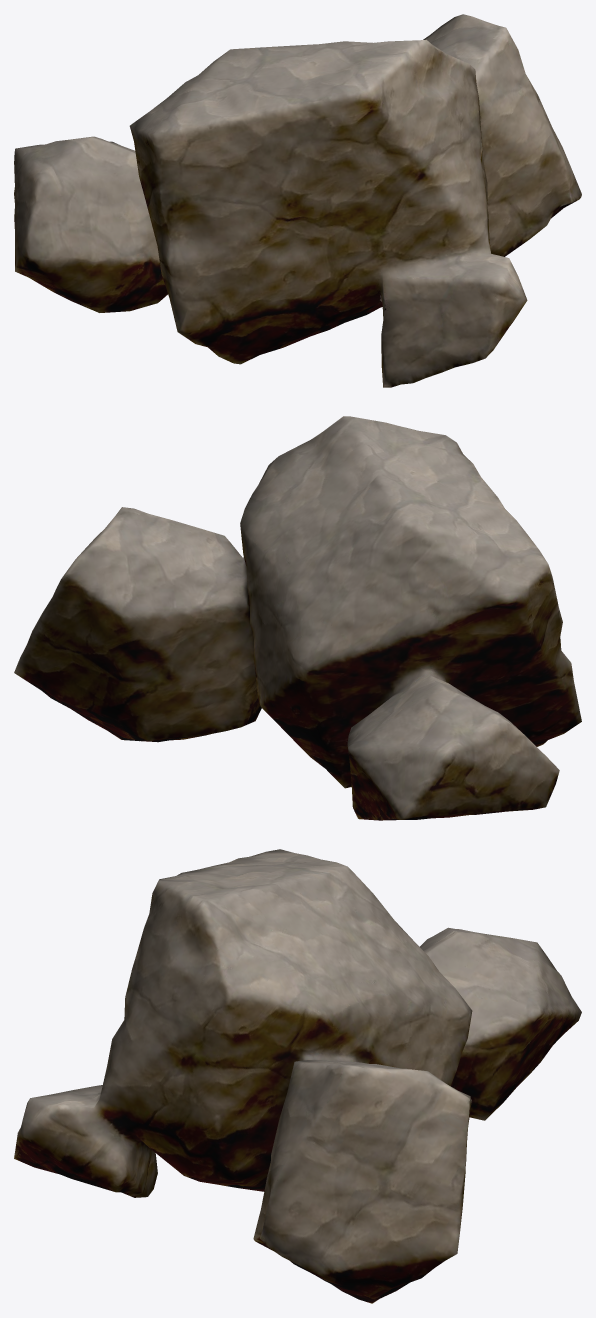
File: boulder_cluster_b.glb
3 renders of one model, top to bottom at view 1: azimuth 30°, elevation 25°; view 2: azimuth 150°, elevation 25°; view 3: azimuth 270°, elevation 25°, orthographic. The views are drawn at different scales.
Parts seen in each view (by area): view 1: rock; view 2: rock; view 3: rock.
Boxes of the visible parts, x1=… form: rock: x1=14, y1=14, x2=581, y2=387; rock: x1=14, y1=416, x2=581, y2=820; rock: x1=14, y1=849, x2=581, y2=1303.
Size of the model in its own units: 1.44 by 0.7977 by 1.27.
1 material, 1 textured.
